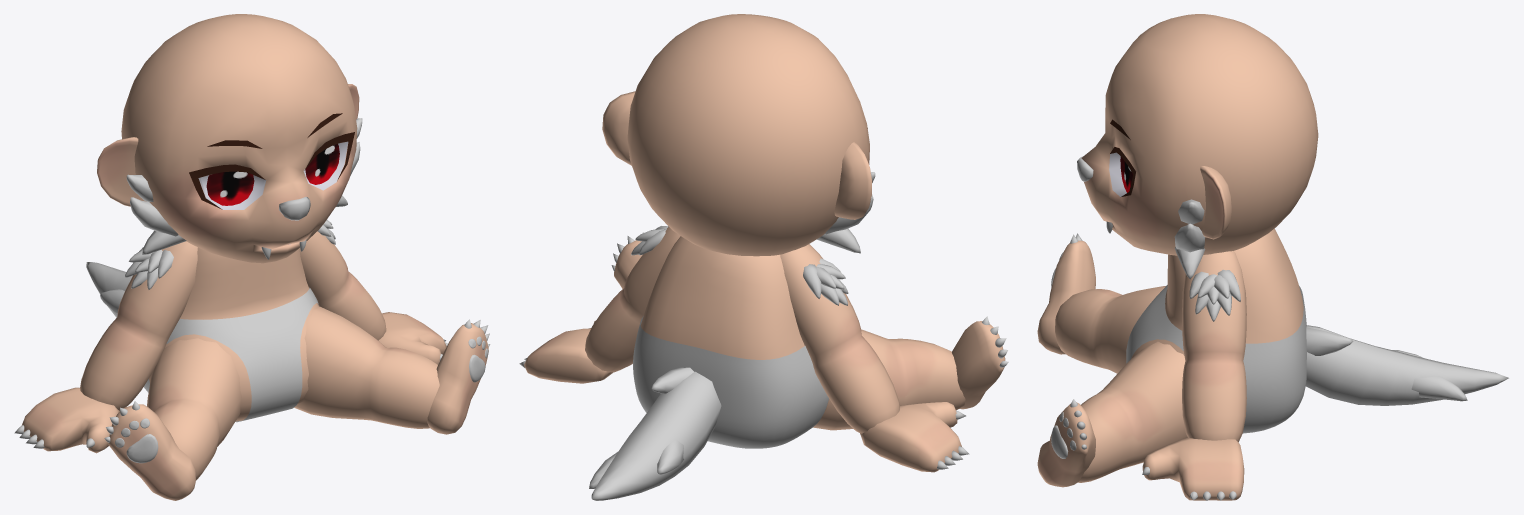
The model's file is MiddleBaby.fbx.
3 views of the same model, side by side, from view 1: azimuth 30°, elevation 25°; view 2: azimuth 150°, elevation 25°; view 3: azimuth 270°, elevation 25° (orthographic). The views are drawn at different scales.
Visible parts, largest first — view 1: Baby; view 2: Baby; view 3: Baby.
Part boxes in pixels (<box>): Baby: <box>14,14,490,500</box>; Baby: <box>519,14,1008,500</box>; Baby: <box>1037,14,1508,500</box>.
Bounding box in the file's own units: 402 × 356 × 388.
